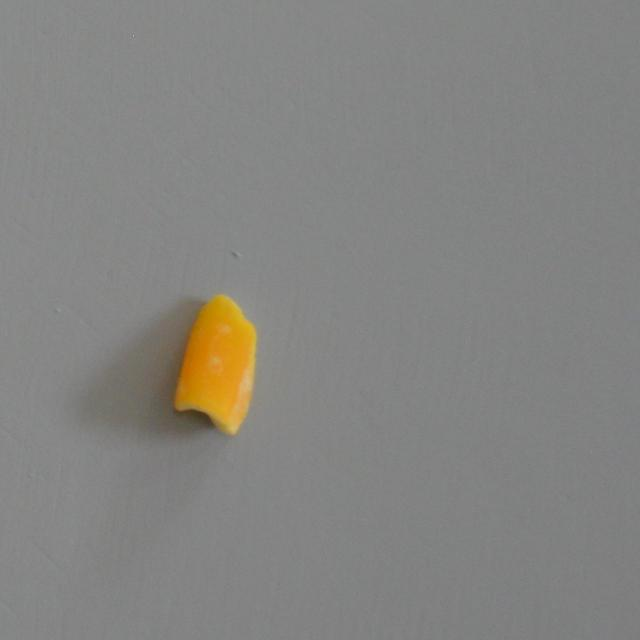pelicula: (172, 290, 262, 436)
